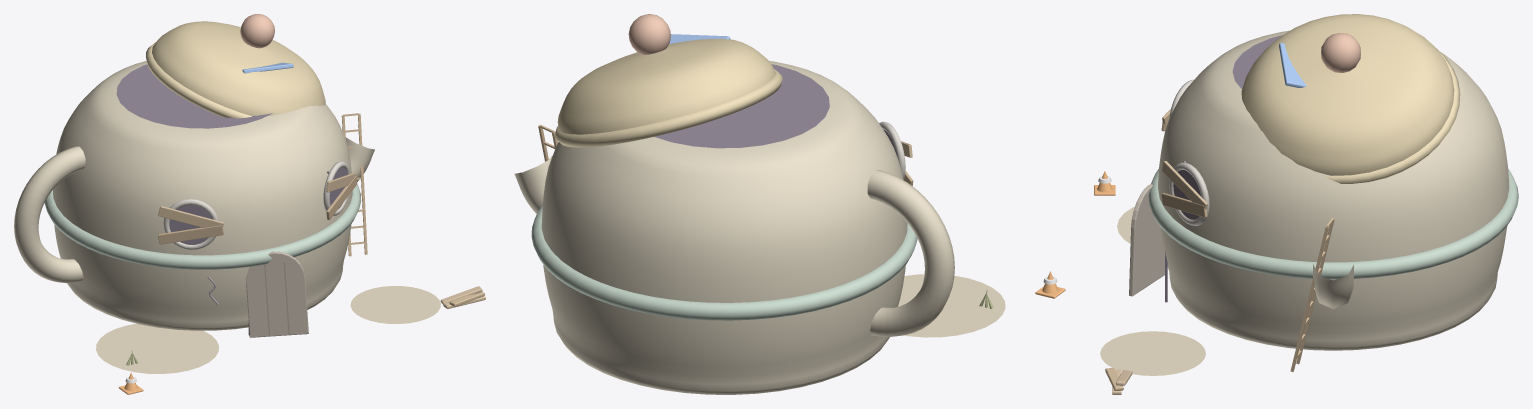
The model's file is building_kitchen_L02.glb.
3 renders of one model, left to right at view 1: azimuth 30°, elevation 25°; view 2: azimuth 150°, elevation 25°; view 3: azimuth 270°, elevation 25°, orthographic. The views are drawn at different scales.
Visible parts, largest first — view 1: Body, kitchen_L2; view 2: Body, kitchen_L2; view 3: Body, kitchen_L2.
Boxes of the visible parts, box(x1,y1,x2,y2) form: Body: box(14, 14, 374, 337); kitchen_L2: box(96, 113, 485, 394); Body: box(514, 14, 954, 394); kitchen_L2: box(538, 125, 1065, 337); Body: box(1129, 14, 1518, 350); kitchen_L2: box(1094, 171, 1334, 394).
Size of the model in its own units: 21.11 by 13.29 by 17.65.
